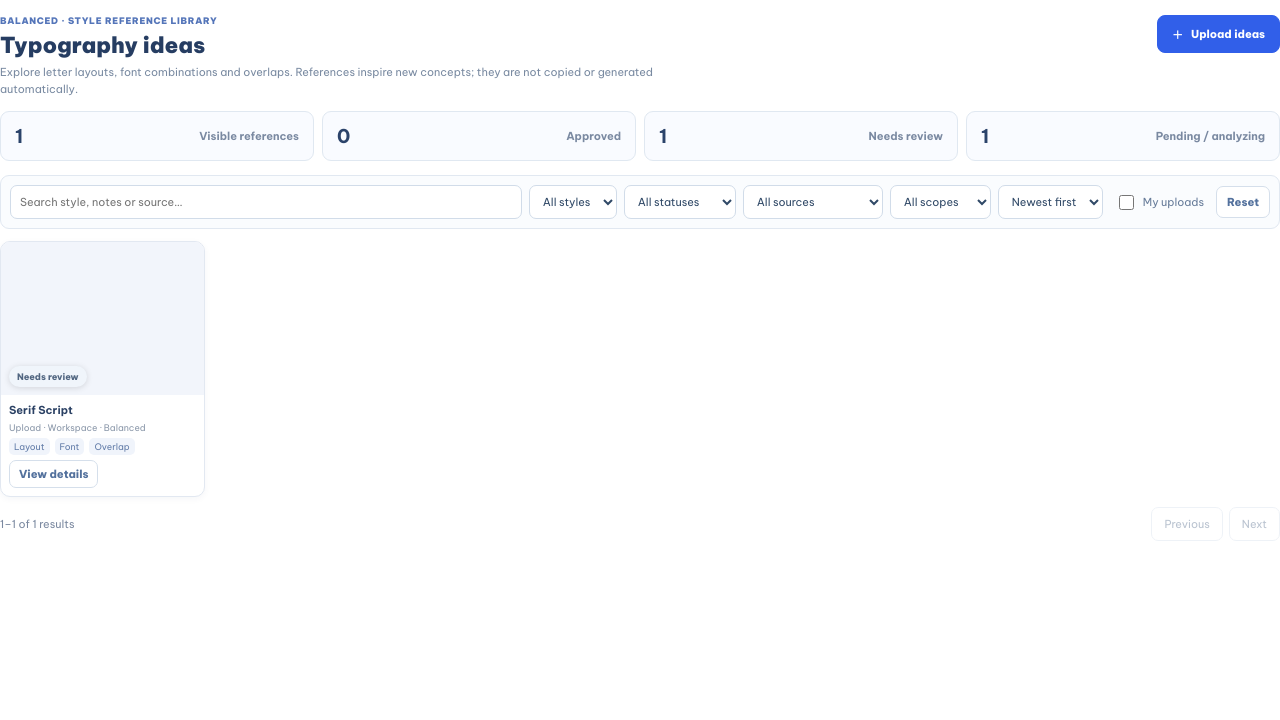
Typography Ideas Stage 1 navigation and gated library › blocks rights-unverified approval and shows DNA empty without invoking analyzer
Click the button with class "typography-reference-image" at (102, 319), box [1,242,204,395]
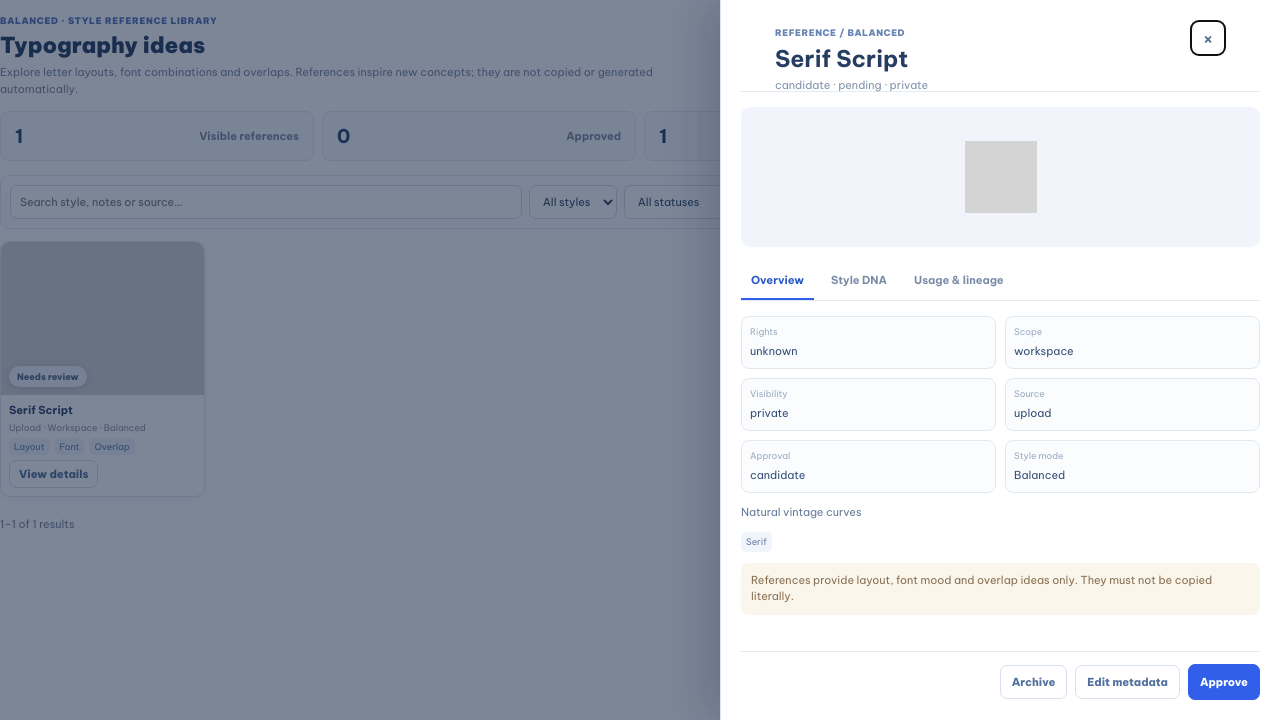
Now the button "Approve" is disabled, box [1188,664,1260,700]
Now the tab "Style DNA" is shown
Click the tab "Style DNA" at (859, 281), box [821,262,897,300]
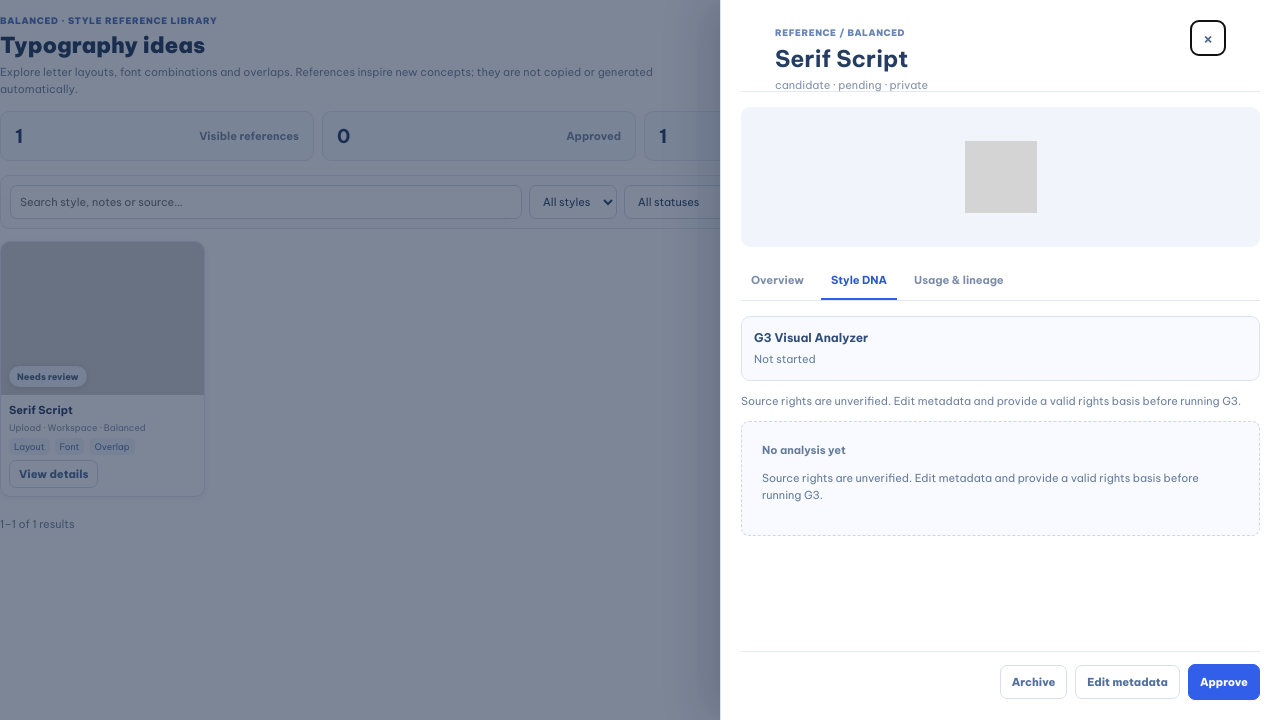
Now the dialog with test id "typography-detail-drawer" shows "No analysis yet", box [762,443,846,457]
Now the dialog with test id "typography-detail-drawer" shows "Source rights are unverified", box [741,394,1241,408]
